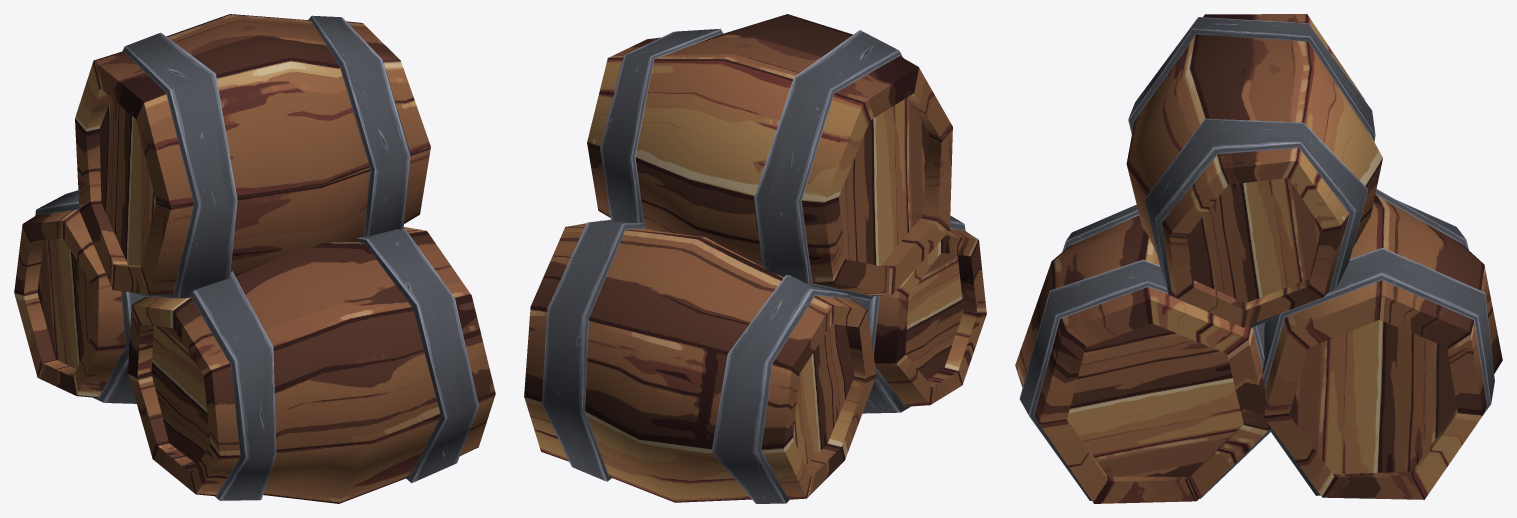
Rendered from SM_PROP_barrel_06.fbx.
3 renders of one model, left to right at view 1: azimuth 30°, elevation 25°; view 2: azimuth 150°, elevation 25°; view 3: azimuth 270°, elevation 25°, orthographic. The views are drawn at different scales.
Parts seen in each view (by area): view 1: SM_PROP_barrel_06; view 2: SM_PROP_barrel_06; view 3: SM_PROP_barrel_06.
Boxes of the visible parts, box(x1,y1,x2,y2) form: SM_PROP_barrel_06: box(14, 14, 495, 503); SM_PROP_barrel_06: box(524, 14, 986, 503); SM_PROP_barrel_06: box(1015, 14, 1502, 503).
Bounding box in the file's own units: 92.95 × 124 × 140.
